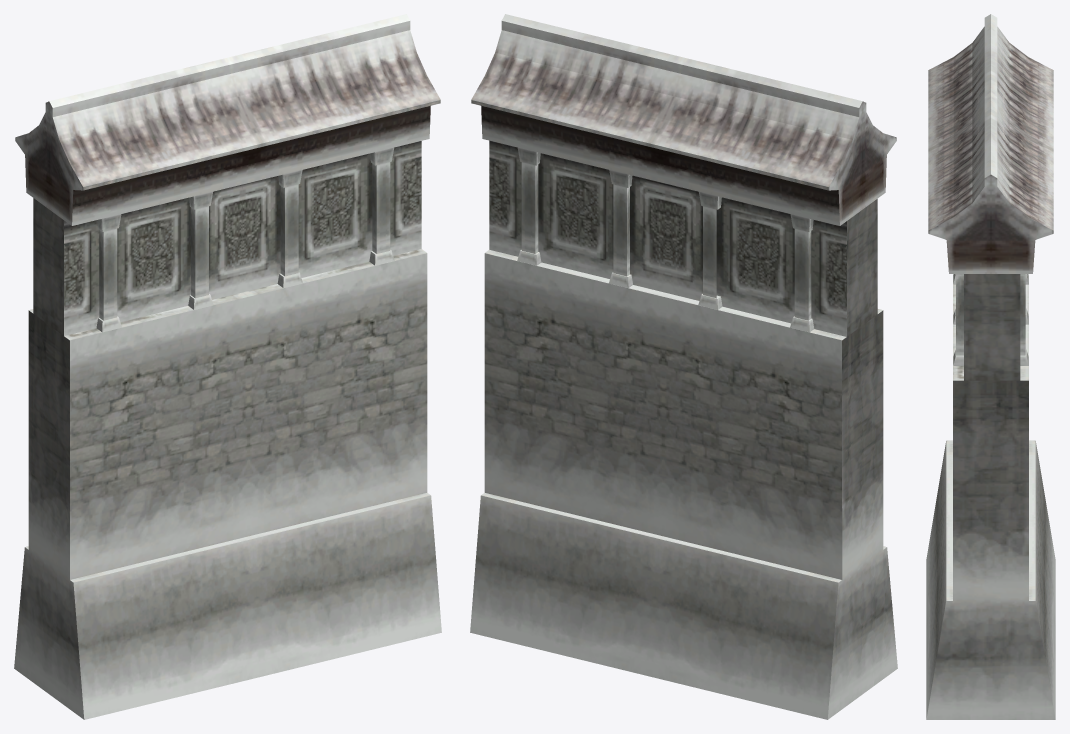
File: snow-middledam-03.fbx
The picture shows the model from 3 angles, left to right: view 1: azimuth 30°, elevation 25°; view 2: azimuth 150°, elevation 25°; view 3: azimuth 270°, elevation 25°; orthographic projection. The views are drawn at different scales.
Visible parts, largest first — view 1: snow-middledam-03; view 2: snow-middledam-03; view 3: snow-middledam-03.
Boxes of the visible parts, x1=… form: snow-middledam-03: x1=14, y1=14, x2=441, y2=719; snow-middledam-03: x1=470, y1=14, x2=897, y2=719; snow-middledam-03: x1=926, y1=14, x2=1055, y2=719.
Size of the model in its own units: 5 by 7.92 by 1.7.
